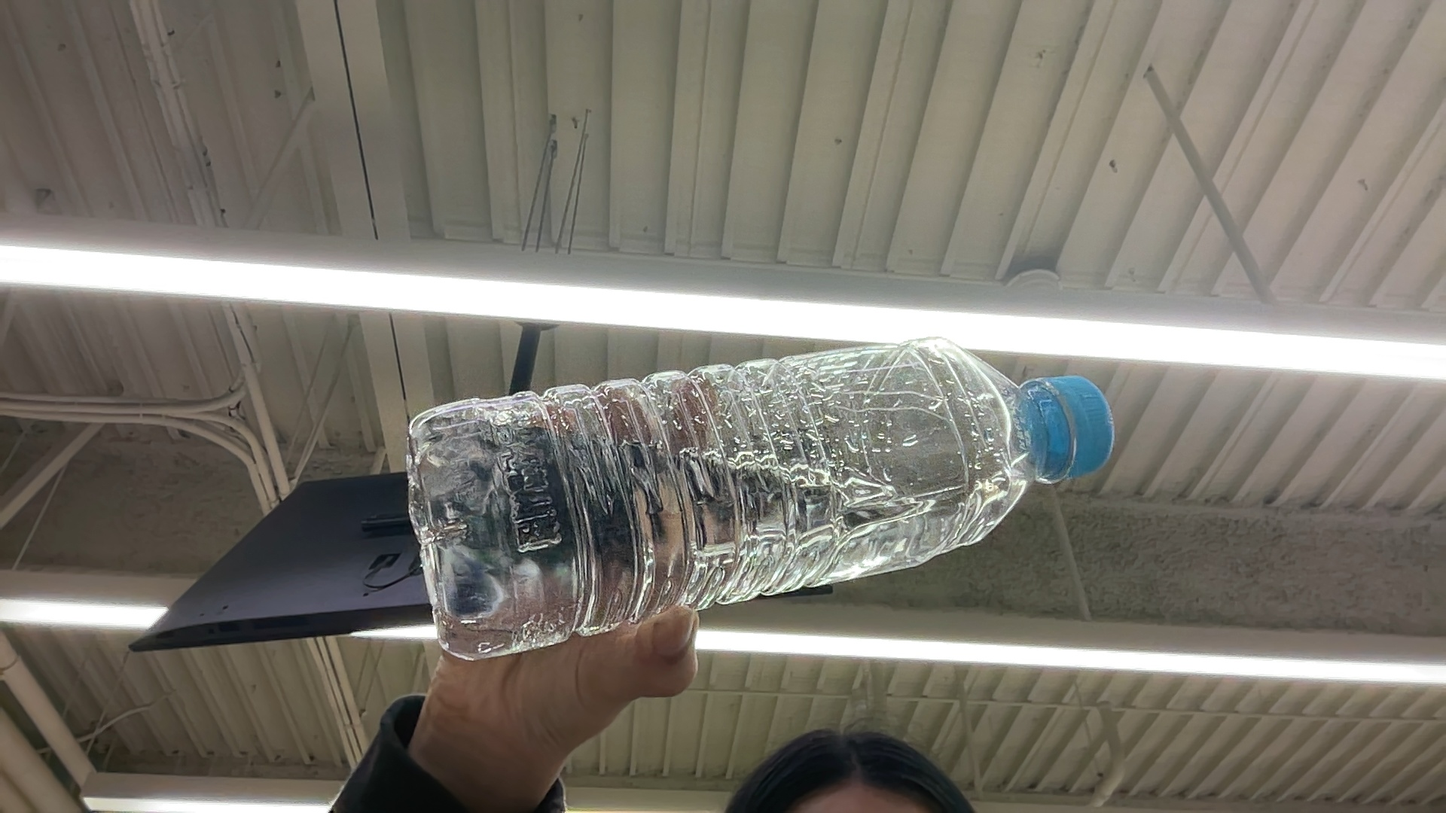Plastic: (1006, 375, 1111, 483)
